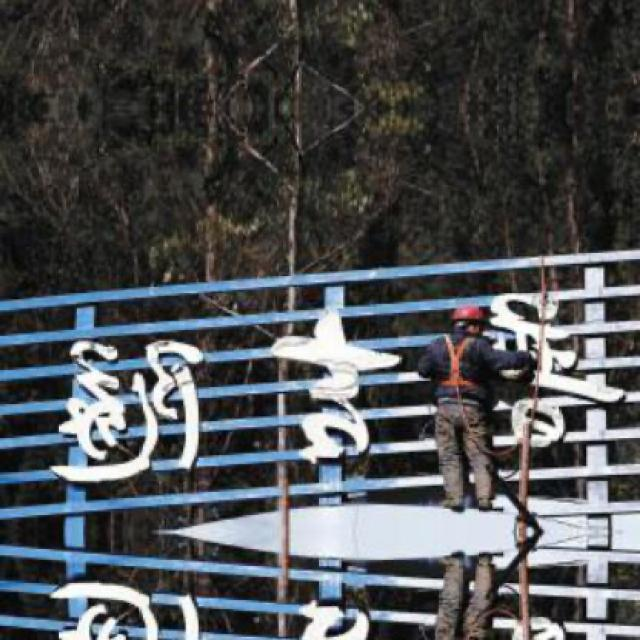helmet: (448, 305, 492, 335)
